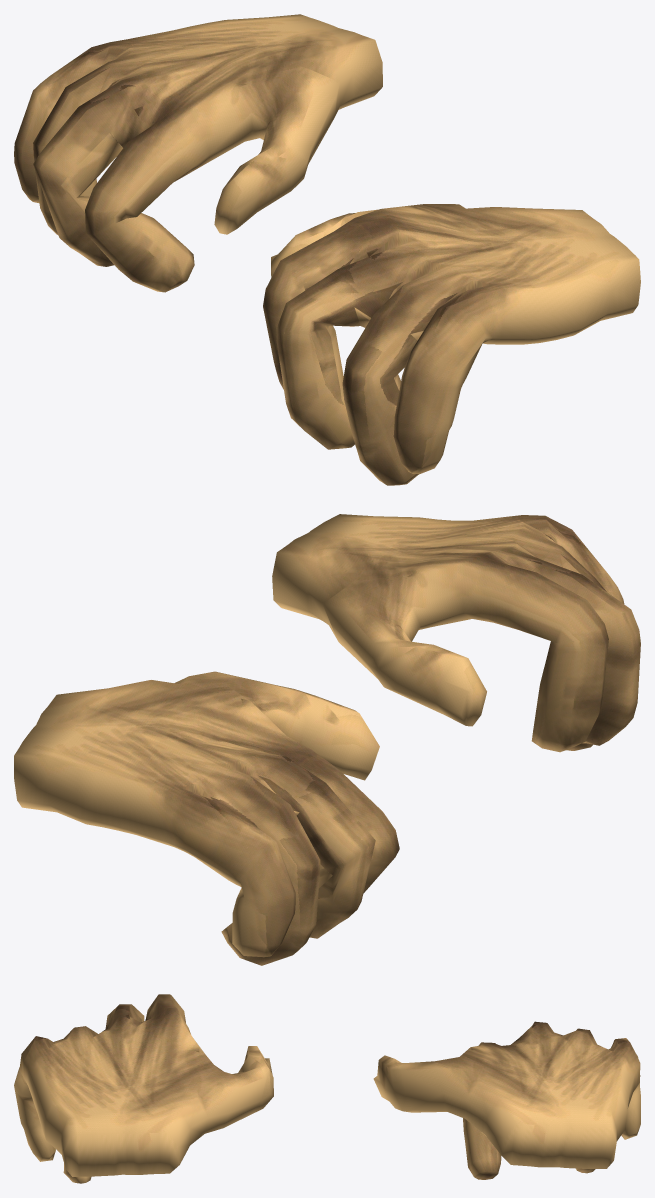
File: dealer hands on table1.glb
3 views of the same model, one above another, from view 1: azimuth 30°, elevation 25°; view 2: azimuth 150°, elevation 25°; view 3: azimuth 270°, elevation 25° (orthographic). The views are drawn at different scales.
Parts seen in each view (by area): view 1: Plane_022, Plane_021; view 2: Plane_021, Plane_022; view 3: Plane_022, Plane_021.
Boxes of the visible parts, left/top/right/bottom form: Plane_022: left=263, top=204, right=640, bottom=485; Plane_021: left=14, top=14, right=382, bottom=292; Plane_021: left=14, top=671, right=399, bottom=965; Plane_022: left=272, top=514, right=640, bottom=752; Plane_022: left=14, top=994, right=273, bottom=1183; Plane_021: left=373, top=1021, right=640, bottom=1179.
Size of the model in its own units: 3.1 by 1.94 by 6.14.
Materials: 1 (1 with a texture image).
